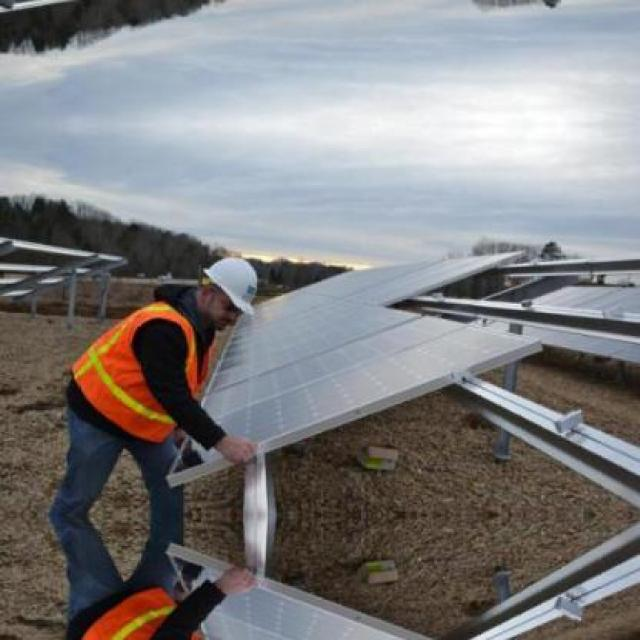helmet: (188, 248, 270, 330)
